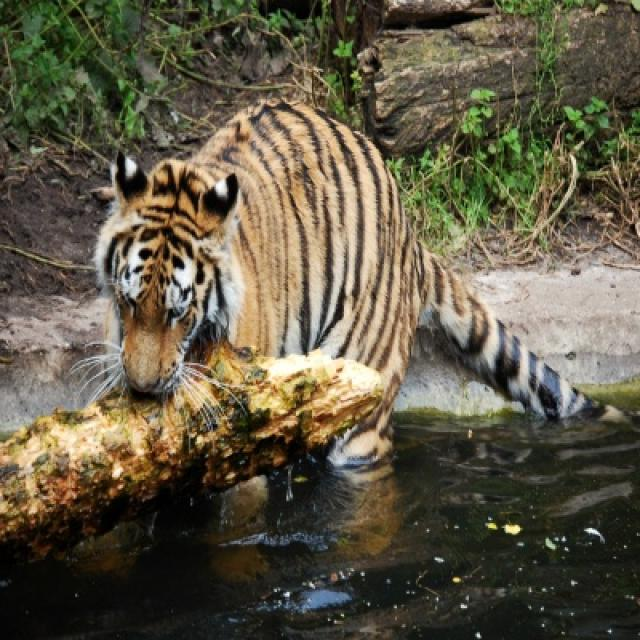Tiger: (93, 99, 611, 466)
